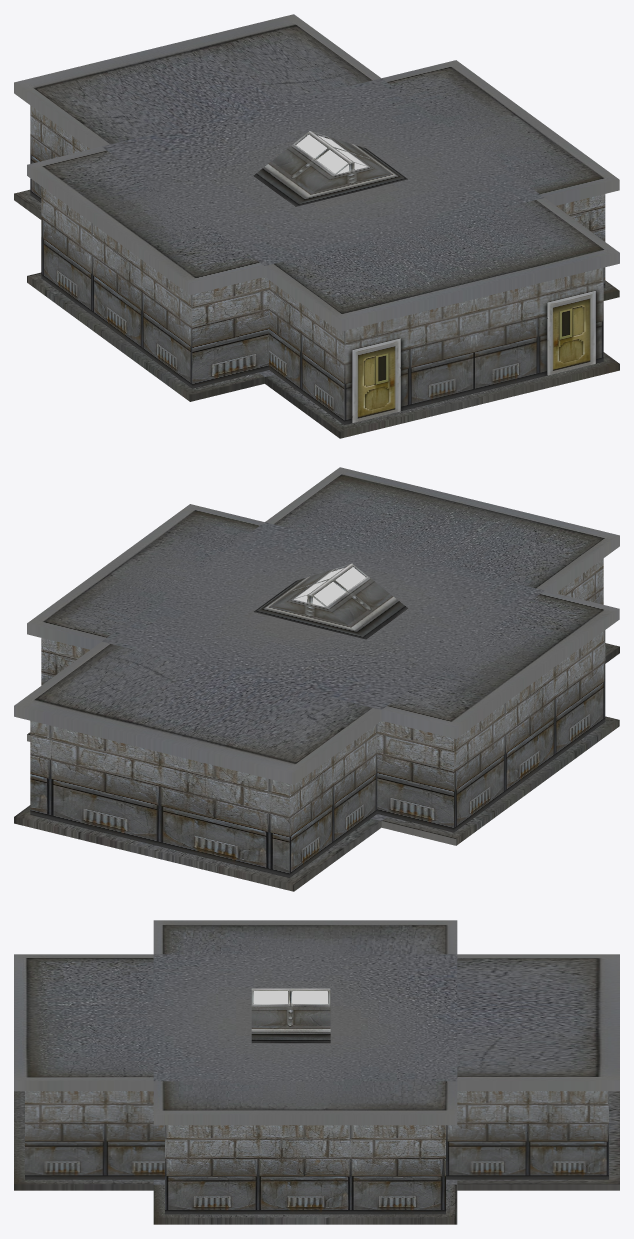
The model's file is s_admin_entry_hdtex.glb.
3 views of the same model, one above another, from view 1: azimuth 30°, elevation 25°; view 2: azimuth 150°, elevation 25°; view 3: azimuth 270°, elevation 25° (orthographic). The views are drawn at different scales.
Parts seen in each view (by area): view 1: S_Adminentry, Litwin_S_entry; view 2: S_Adminentry, Litwin_S_entry; view 3: S_Adminentry, Litwin_S_entry.
Part boxes in pixels (box(x1,y1,x2,y2)): S_Adminentry: box(14, 14, 619, 438); Litwin_S_entry: box(296, 134, 367, 174); S_Adminentry: box(14, 467, 619, 891); Litwin_S_entry: box(294, 567, 365, 606); S_Adminentry: box(14, 920, 619, 1224); Litwin_S_entry: box(253, 991, 327, 1003).
Size of the model in its own units: 21.23 by 7.05 by 27.92.
Materials: 4 (4 with a texture image).
